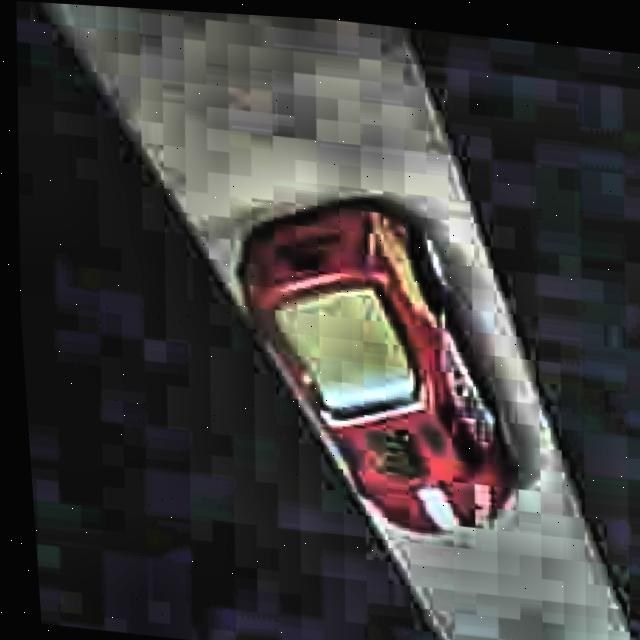car: (215, 177, 540, 550)
